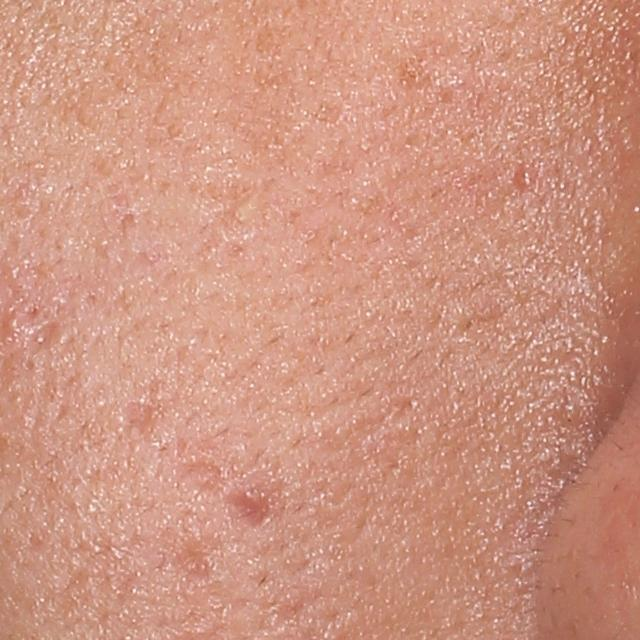atrophic_scar: (175, 455, 234, 504), (158, 541, 211, 587), (122, 400, 162, 440), (27, 320, 63, 356)
